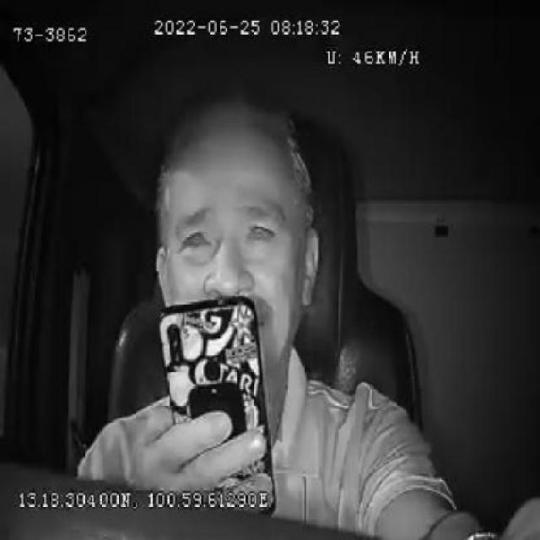phone: (156, 296, 276, 493)
